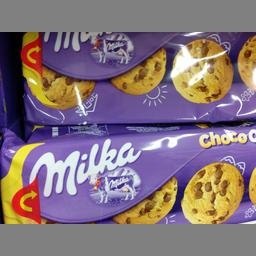chocolate: (1, 127, 255, 223), (23, 30, 255, 124)
